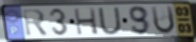3: (48, 8, 70, 38)
9: (128, 5, 153, 36)
H: (73, 7, 100, 36)
R: (21, 8, 50, 38)
U: (149, 4, 177, 36), (96, 6, 124, 36)
